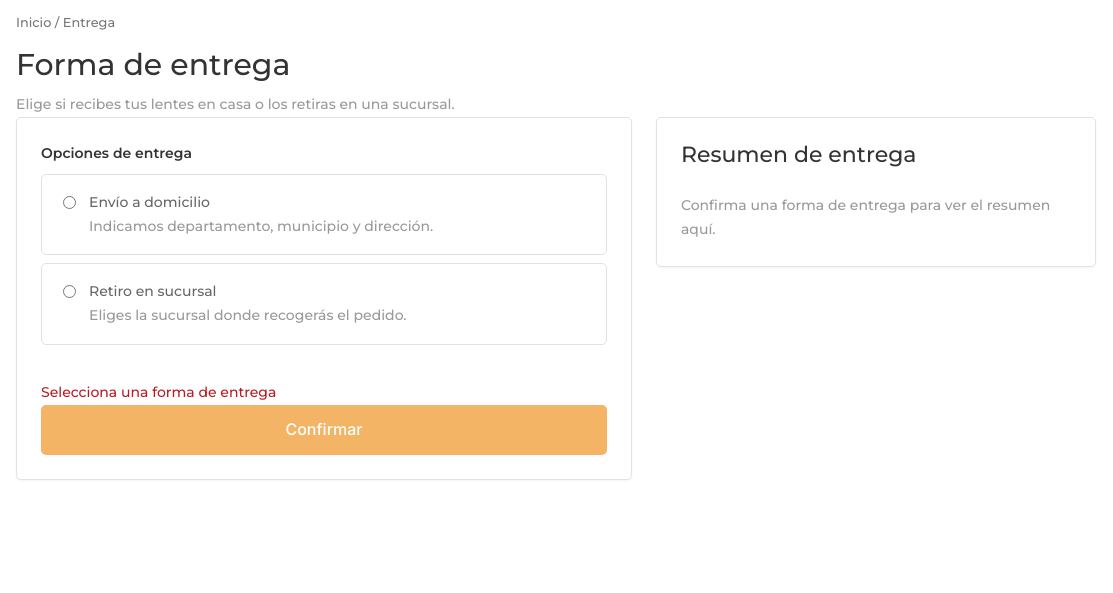
Scenario: DeliveryOptionsPage › muestra solo sucursal cuando elige retiro
This screenshot has width=1113, height=593.
Click the radio button labelled "Retiro en sucursal": (70, 292) [63,285,76,298]
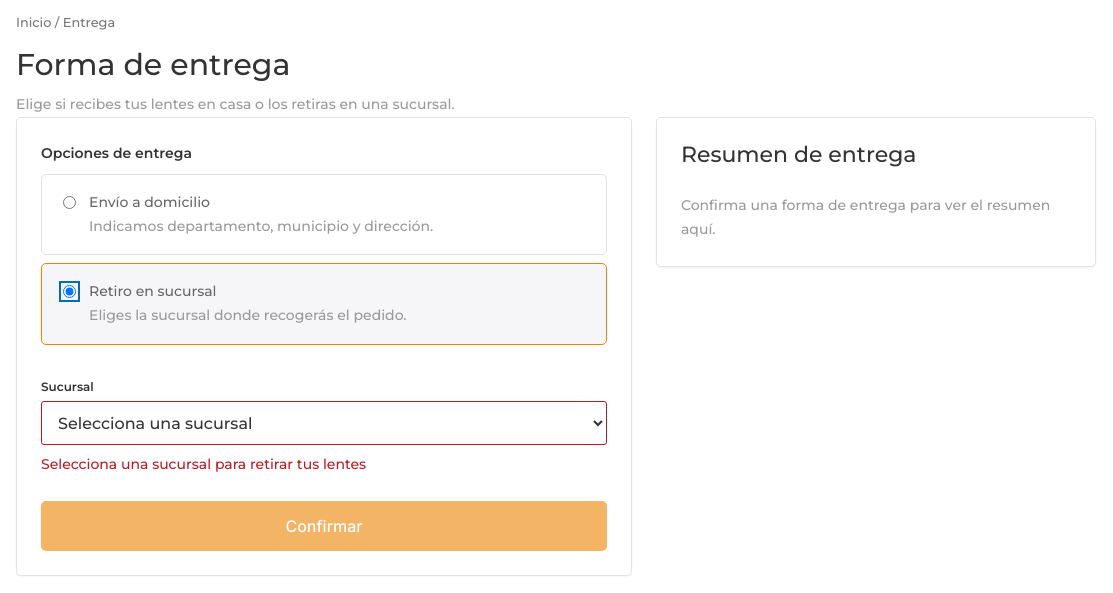
Check: the dropdown labelled "Sucursal" is shown, box [41,401,607,445]
